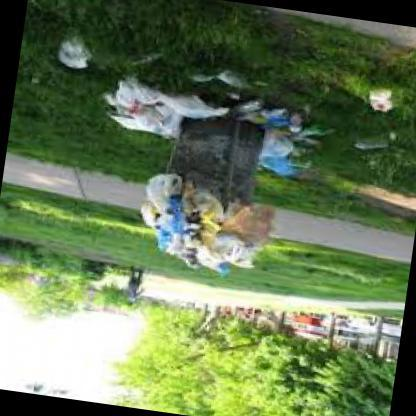Garbage: (132, 185, 276, 280), (93, 72, 180, 139), (256, 108, 308, 170), (159, 90, 236, 120)
